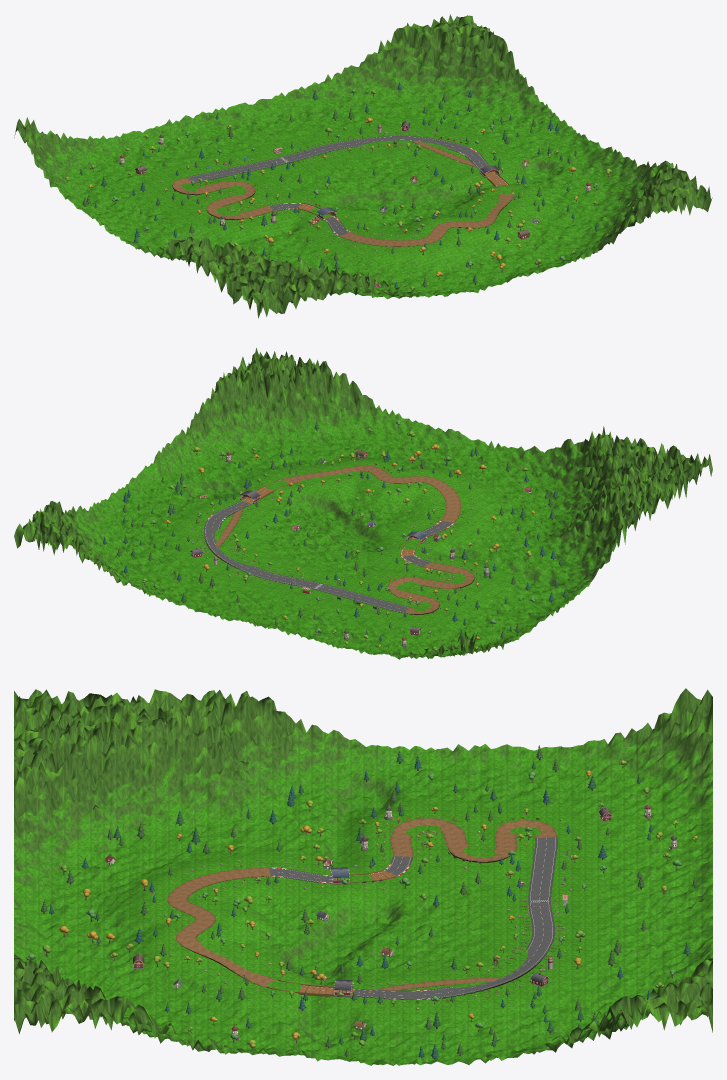
The model's file is vale-moinhos.glb.
3 renders of one model, top to bottom at view 1: azimuth 30°, elevation 25°; view 2: azimuth 150°, elevation 25°; view 3: azimuth 270°, elevation 25°, orthographic. The views are drawn at different scales.
Parts seen in each view (by area): view 1: terrain4, terrain5, terrain0, terrain3, terrain15, terrain2, terrain26, terrain11, terrain1, terrain27, terrain6, terrain24 (+36 smaller); view 2: terrain29, terrain18, terrain28, terrain21, terrain24, terrain25, terrain23, terrain19, terrain34, terrain12, terrain15, terrain20 (+38 smaller); view 3: terrain18, terrain0, terrain24, terrain25, terrain12, terrain6, terrain22, terrain14, terrain2, terrain1, terrain27, terrain19 (+50 smaller).
Part boxes in pixels (left/top/right/bottom): terrain4: left=332, top=23, right=455, bottom=122; terrain5: left=411, top=14, right=512, bottom=104; terrain0: left=14, top=117, right=138, bottom=195; terrain3: left=253, top=74, right=376, bottom=141; terrain15: left=343, top=154, right=467, bottom=210; terrain2: left=173, top=102, right=297, bottom=161; terrain26: left=356, top=235, right=480, bottom=296; terrain11: left=457, top=53, right=557, bottom=135; terrain1: left=93, top=119, right=215, bottom=180; terrain27: left=442, top=216, right=559, bottom=275; terrain6: left=60, top=180, right=184, bottom=230; terrain24: left=197, top=244, right=319, bottom=304; terrain29: left=197, top=357, right=298, bottom=454; terrain18: left=527, top=492, right=647, bottom=573; terrain28: left=255, top=385, right=377, bottom=465; terrain21: left=287, top=464, right=407, bottom=527; terrain24: left=575, top=452, right=693, bottom=520; terrain25: left=492, top=453, right=612, bottom=526; terrain23: left=153, top=412, right=250, bottom=492; terrain19: left=446, top=506, right=569, bottom=563; terrain34: left=299, top=360, right=395, bottom=436; terrain12: left=479, top=562, right=602, bottom=613; terrain15: left=241, top=508, right=365, bottom=558; terrain20: left=367, top=482, right=490, bottom=540; terrain18: left=192, top=690, right=322, bottom=814; terrain0: left=583, top=688, right=712, bottom=814; terrain24: left=62, top=689, right=192, bottom=803; terrain25: left=62, top=751, right=192, bottom=869; terrain12: left=323, top=730, right=452, bottom=820; terrain6: left=453, top=744, right=582, bottom=812; terrain22: left=192, top=966, right=322, bottom=1040; terrain14: left=323, top=863, right=452, bottom=932; terrain2: left=583, top=859, right=712, bottom=924; terrain1: left=583, top=799, right=712, bottom=869; terrain27: left=62, top=908, right=192, bottom=978; terrain19: left=192, top=799, right=322, bottom=862.
Size of what is drawn, in the model's own units: 685 by 87.78 by 645.
Materials: 34 (20 with a texture image).
